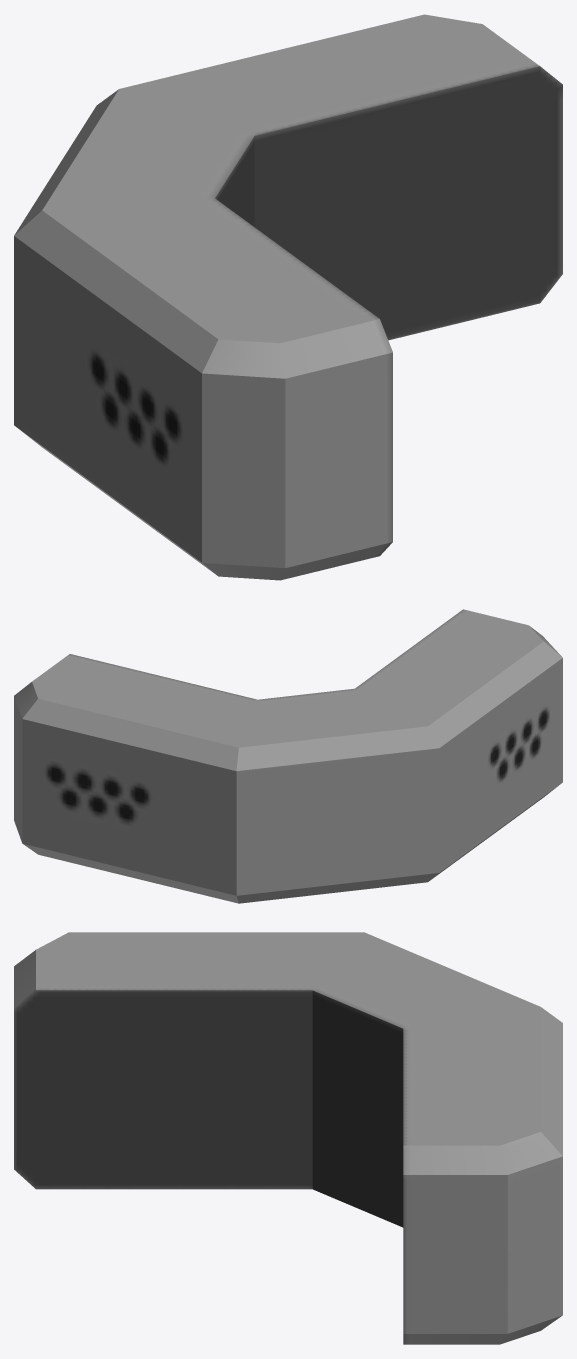
3 views of the same model, one above another, from view 1: azimuth 30°, elevation 25°; view 2: azimuth 150°, elevation 25°; view 3: azimuth 270°, elevation 25° (orthographic). The views are drawn at different scales.
Visible parts, largest first — view 1: Chest2; view 2: Chest2; view 3: Chest2.
Boxes of the visible parts, x1,y1,x2,y2 form: Chest2: (14, 14, 562, 580); Chest2: (14, 609, 562, 903); Chest2: (14, 932, 562, 1344).
Bounding box in the file's own units: 0.6359 × 0.2543 × 0.6359.
1 material, 1 textured.
